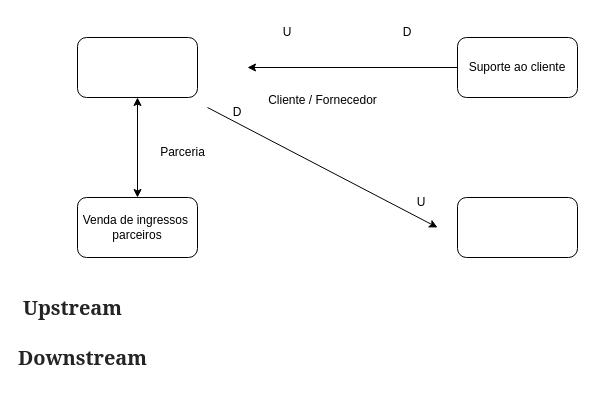
Some shapes in this 595 by 394 pixel diagram are drawn without their labels. Each missing label, with the centre of its shape:
Pagamento: (517,227)
Venda de ingressos online: (137,67)
